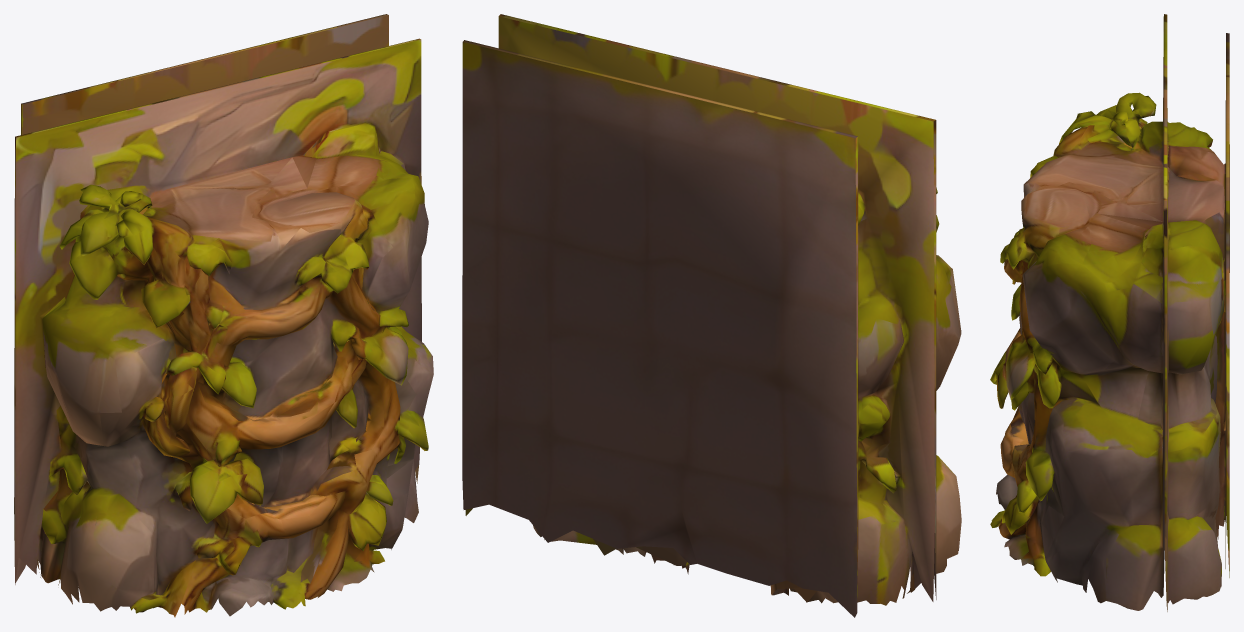
File: vine_cliff.fbx
3 views of the same model, side by side, from view 1: azimuth 30°, elevation 25°; view 2: azimuth 150°, elevation 25°; view 3: azimuth 270°, elevation 25° (orthographic). The views are drawn at different scales.
Visible parts, largest first — view 1: 1_output_1794025313150729_yIGggHsoQ; view 2: 1_output_1794025313150729_yIGggHsoQ; view 3: 1_output_1794025313150729_yIGggHsoQ.
Part boxes in pixels (box(x1,y1,x2,y2)): 1_output_1794025313150729_yIGggHsoQ: box(14, 14, 433, 617); 1_output_1794025313150729_yIGggHsoQ: box(462, 14, 961, 617); 1_output_1794025313150729_yIGggHsoQ: box(990, 14, 1229, 611).
Size of the model in its own units: 5.67 by 6 by 3.08.
Materials: 1 (1 with a texture image).
